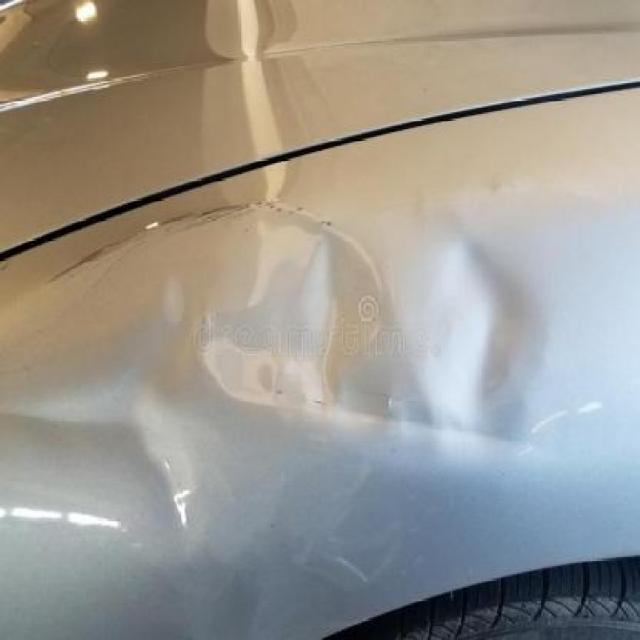dent: (195, 217, 374, 411), (402, 229, 546, 443), (0, 417, 183, 554)
